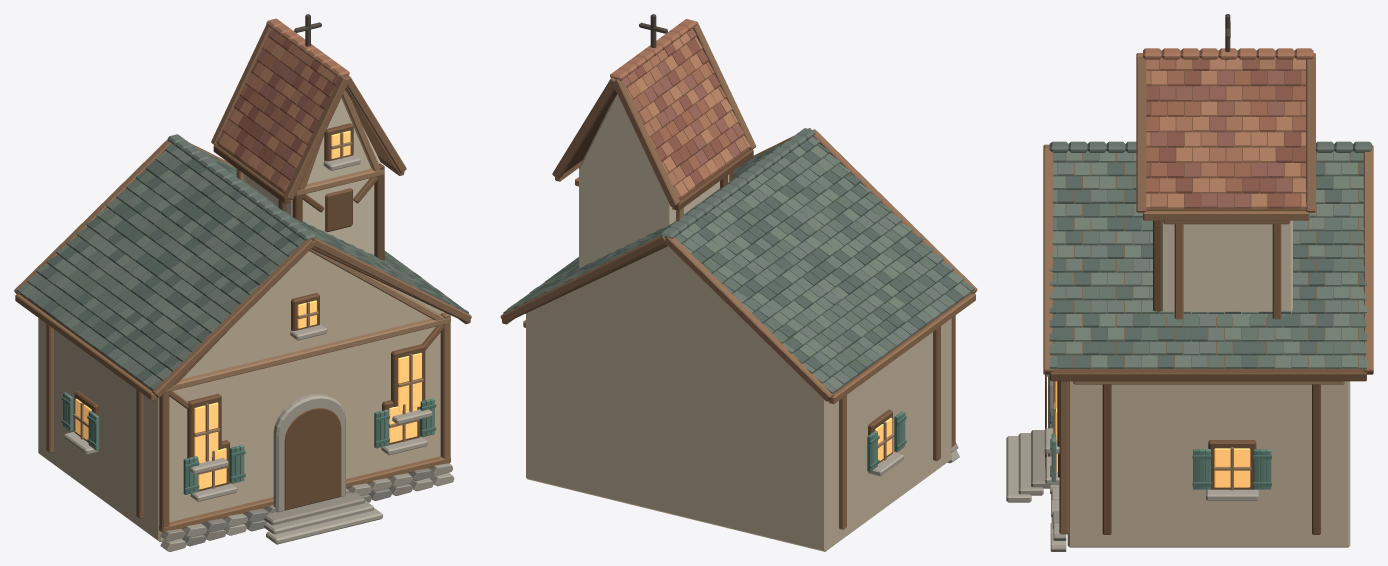
File: chapel.glb
The picture shows the model from 3 angles, left to right: view 1: azimuth 30°, elevation 25°; view 2: azimuth 150°, elevation 25°; view 3: azimuth 270°, elevation 25°; orthographic projection. The views are drawn at different scales.
Visible parts, largest first — view 1: chapel Warm limewash 02, chapel Slate green shingles 03, chapel Oiled oak 01, chapel Slate green shingles 01, chapel Slate green shingles 02, chapel Slate green shingles 04, chapel Oak end grain 01, chapel Warm slate 03, chapel Oiled oak 03, chapel Oiled oak 04, chapel Honey glass 01, chapel Warm limewash 03 (+13 smaller); view 2: chapel Warm limewash 02, chapel Slate green shingles 03, chapel Slate green shingles 01, chapel Warm limewash 03, chapel Slate green shingles 02, chapel Slate green shingles 04, chapel Oak end grain 01, chapel Fired clay 03, chapel Oiled oak 03, chapel Oiled oak 01, chapel Fired clay 01, chapel Fired clay 05 (+3 smaller); view 3: chapel Warm limewash 02, chapel Oiled oak 01, chapel Slate green shingles 01, chapel Slate green shingles 04, chapel Slate green shingles 03, chapel Slate green shingles 02, chapel Warm limewash 03, chapel Oak end grain 01, chapel Fired clay 05, chapel Fired clay 03, chapel Fired clay 02, chapel Fired clay 01 (+12 smaller).
Part boxes in pixels (x1,y1,x2,y2): chapel Warm limewash 02: (38,251,444,541); chapel Slate green shingles 03: (17,134,435,377); chapel Oiled oak 01: (19,88,470,510); chapel Slate green shingles 01: (40,158,463,382); chapel Slate green shingles 02: (34,144,468,390); chapel Slate green shingles 04: (20,148,450,388); chapel Oak end grain 01: (14,25,471,397); chapel Warm slate 03: (64,154,454,544); chapel Oiled oak 03: (15,134,450,532); chapel Oiled oak 04: (166,90,450,391); chapel Honey glass 01: (75,130,421,489); chapel Warm limewash 03: (244,98,380,254); chapel Warm limewash 02: (526,246,951,551); chapel Slate green shingles 03: (503,128,955,393); chapel Slate green shingles 01: (537,141,963,374); chapel Warm limewash 03: (579,94,729,267); chapel Slate green shingles 02: (515,159,974,379); chapel Slate green shingles 04: (507,144,970,390); chapel Oak end grain 01: (500,21,977,401); chapel Fired clay 03: (610,19,747,186); chapel Oiled oak 03: (555,160,975,529); chapel Oiled oak 01: (502,89,971,463); chapel Fired clay 01: (634,39,726,186); chapel Fired clay 05: (634,33,750,197); chapel Warm limewash 02: (1067,381,1350,547); chapel Oiled oak 01: (1045,58,1366,534); chapel Slate green shingles 01: (1049,152,1366,368); chapel Slate green shingles 04: (1052,150,1366,368); chapel Slate green shingles 03: (1049,141,1371,368); chapel Slate green shingles 02: (1049,150,1366,368); chapel Warm limewash 03: (1161,220,1292,316); chapel Oak end grain 01: (1043,53,1373,374); chapel Fired clay 05: (1146,57,1306,208); chapel Fired clay 03: (1143,48,1313,208); chapel Fired clay 02: (1146,57,1305,208); chapel Fired clay 01: (1146,57,1305,208).
Bounding box in the file's own units: 7.69 × 9.89 × 6.58.
